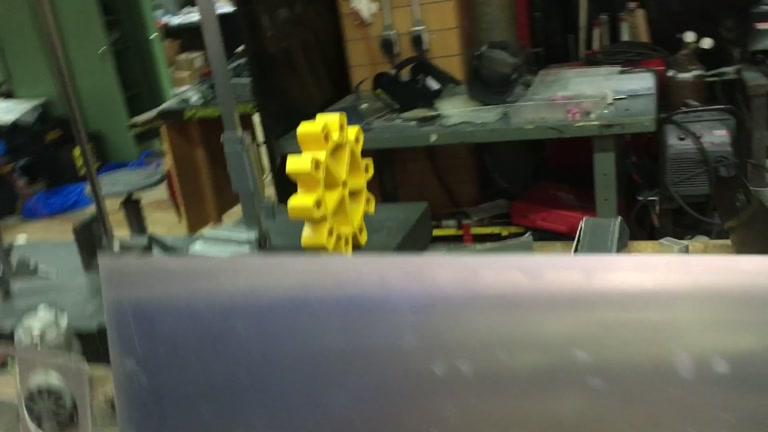gear: (284, 110, 377, 257)
